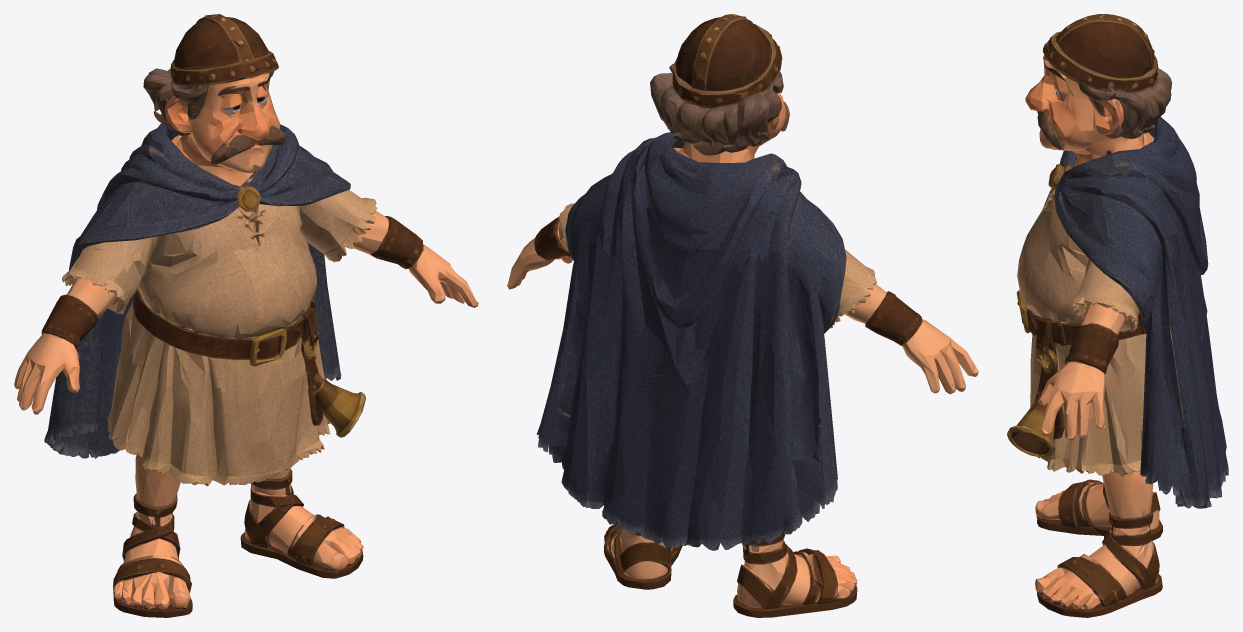
3 views of the same model, side by side, from view 1: azimuth 30°, elevation 25°; view 2: azimuth 150°, elevation 25°; view 3: azimuth 270°, elevation 25° (orthographic). The views are drawn at different scales.
Parts seen in each view (by area): view 1: Mesh_0; view 2: Mesh_0; view 3: Mesh_0.
Part boxes in pixels (<box>): Mesh_0: <box>14,14,478,617</box>; Mesh_0: <box>507,14,978,617</box>; Mesh_0: <box>1007,14,1228,617</box>.
Bounding box in the file's own units: 1.6 × 1.9 × 0.7029.
1 material, 1 textured.
